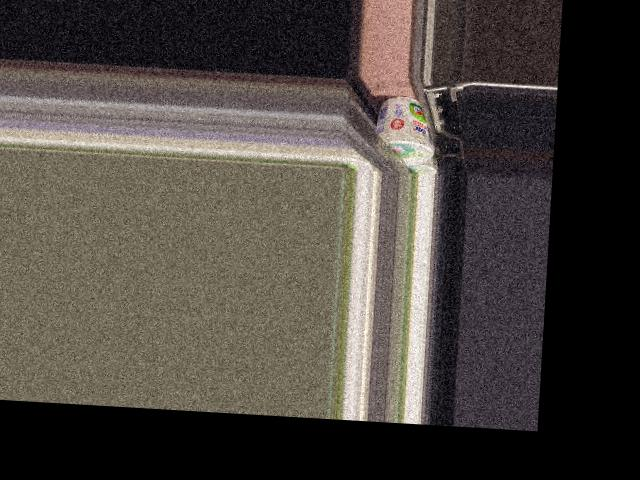cotage: (372, 96, 433, 165)
